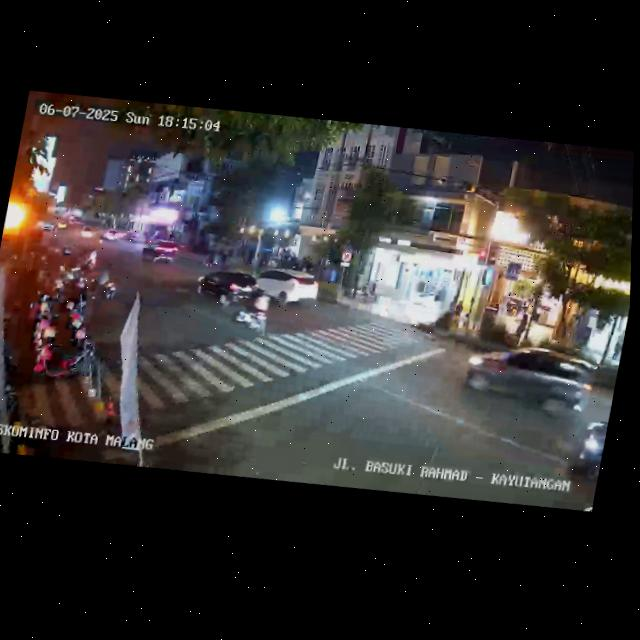car: (459, 333, 600, 427), (562, 399, 611, 494), (248, 261, 322, 315), (192, 259, 262, 314), (141, 237, 179, 268)
motorcycle: (230, 282, 274, 337), (91, 267, 121, 304), (83, 246, 102, 274)
person: (68, 278, 90, 324), (516, 304, 533, 339), (612, 333, 625, 363)
